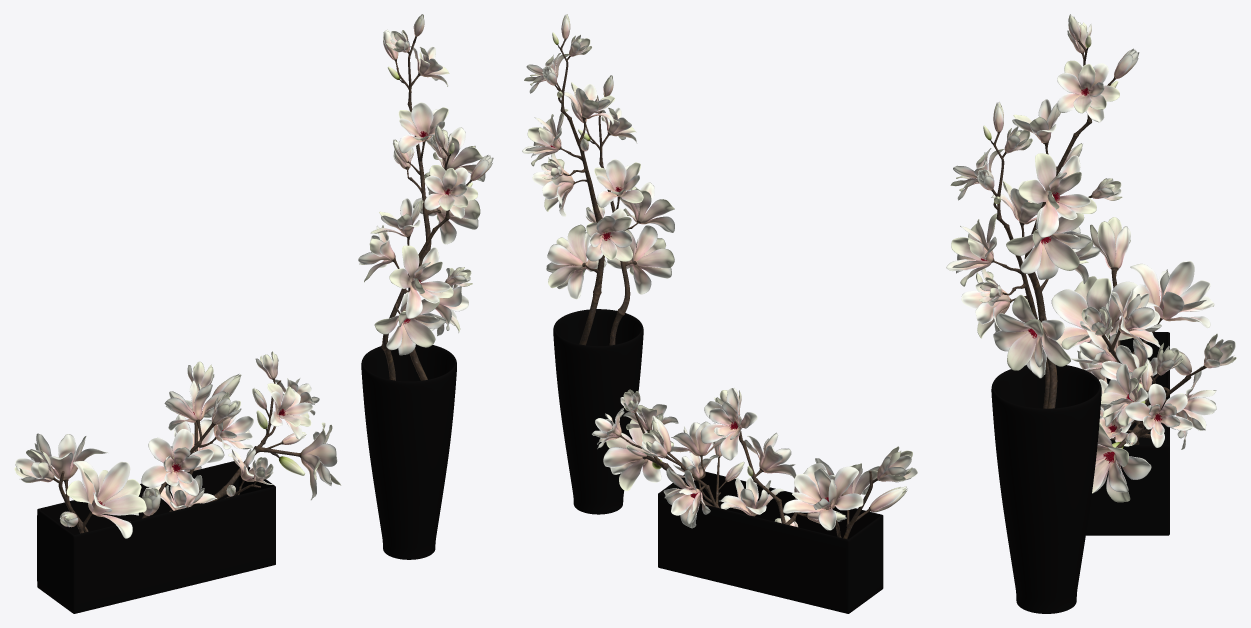
The model's file is Magnolia2.fbx.
3 renders of one model, left to right at view 1: azimuth 30°, elevation 25°; view 2: azimuth 150°, elevation 25°; view 3: azimuth 270°, elevation 25°, orthographic. The views are drawn at different scales.
Parts seen in each view (by area): view 1: Vazon2, magnolia2, magnolia1, vazon1, branch1, branch2; view 2: Vazon2, magnolia2, magnolia1, vazon1, branch1, branch2; view 3: magnolia1, magnolia2, vazon1, Vazon2, branch1, branch2.
Boxes of the visible parts, bbox=[...] form: Vazon2: bbox=[37, 460, 275, 613]; magnolia2: bbox=[14, 351, 341, 538]; magnolia1: bbox=[358, 14, 493, 355]; vazon1: bbox=[361, 344, 456, 559]; branch1: bbox=[381, 36, 472, 380]; branch2: bbox=[51, 378, 301, 533]; Vazon2: bbox=[658, 471, 883, 613]; magnolia2: bbox=[592, 388, 917, 530]; magnolia1: bbox=[522, 14, 674, 299]; vazon1: bbox=[553, 309, 643, 514]; branch1: bbox=[555, 39, 640, 345]; branch2: bbox=[619, 412, 879, 538]; magnolia1: bbox=[946, 14, 1139, 378]; magnolia2: bbox=[1048, 217, 1236, 502]; vazon1: bbox=[991, 365, 1101, 613]; Vazon2: bbox=[1086, 332, 1169, 535]; branch1: bbox=[991, 39, 1116, 408]; branch2: bbox=[1101, 267, 1206, 447].
Size of the model in its own units: 64.44 by 73.62 by 32.26.
